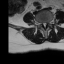CCS_normal: (43, 21, 45, 30)
LFS_severe_stenosis: (46, 19, 48, 26)
LLS_stenosis: (45, 21, 46, 27)
RFS_stenosis: (40, 20, 42, 26)
RLS_stenosis: (42, 20, 44, 27)
